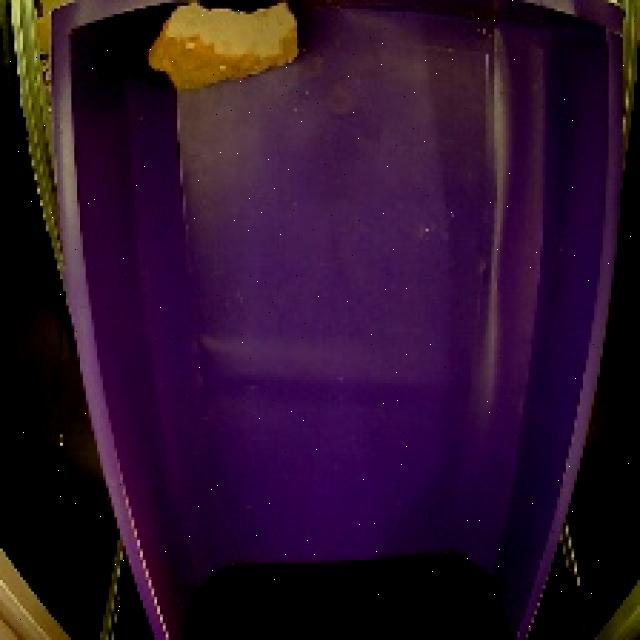brick: (140, 0, 317, 103)
